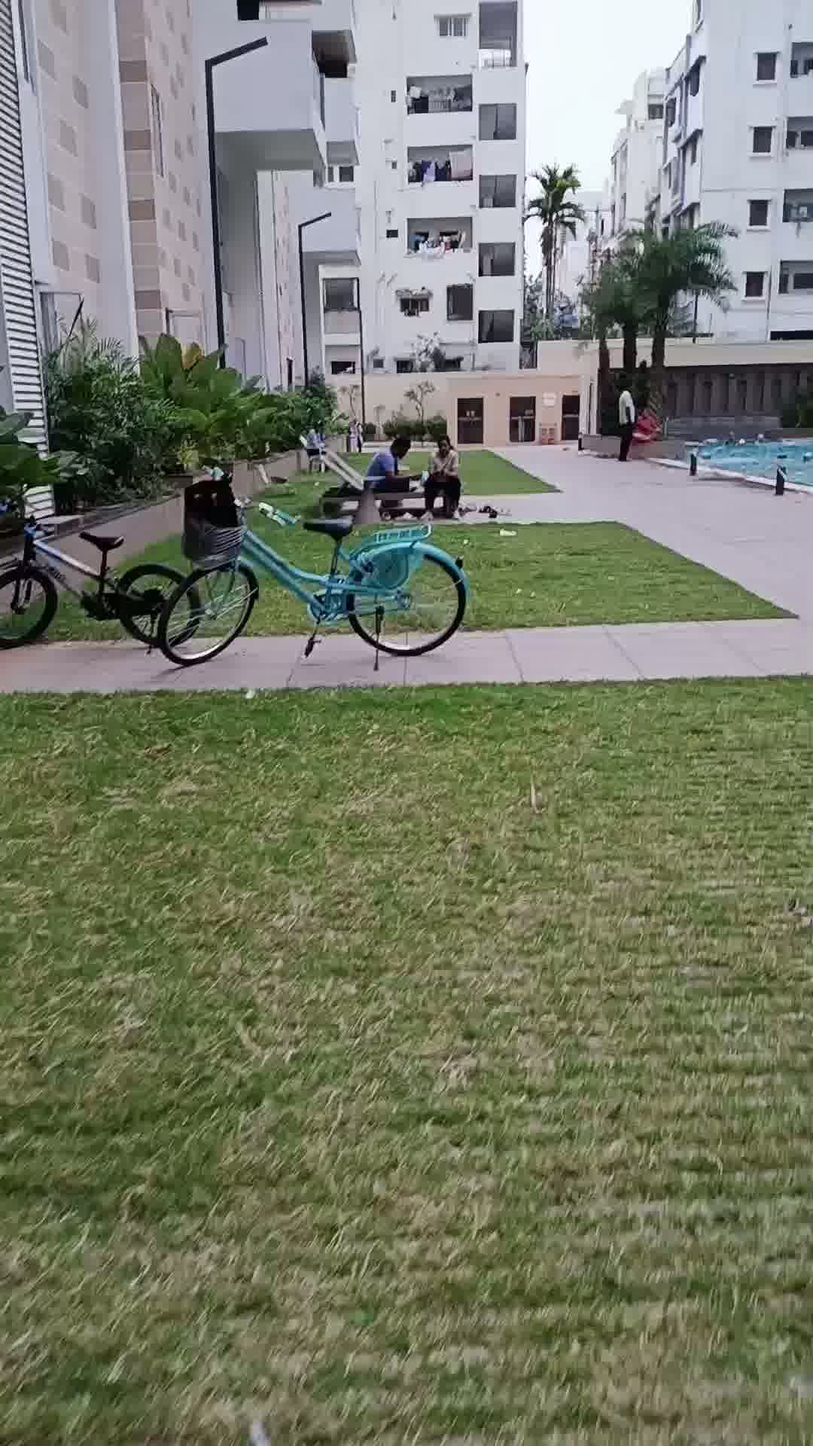bicycle: (154, 455, 495, 709), (0, 473, 205, 669)
person: (418, 416, 472, 524), (364, 416, 415, 512), (603, 362, 643, 467)
tree: (609, 202, 723, 433), (521, 148, 580, 364)
